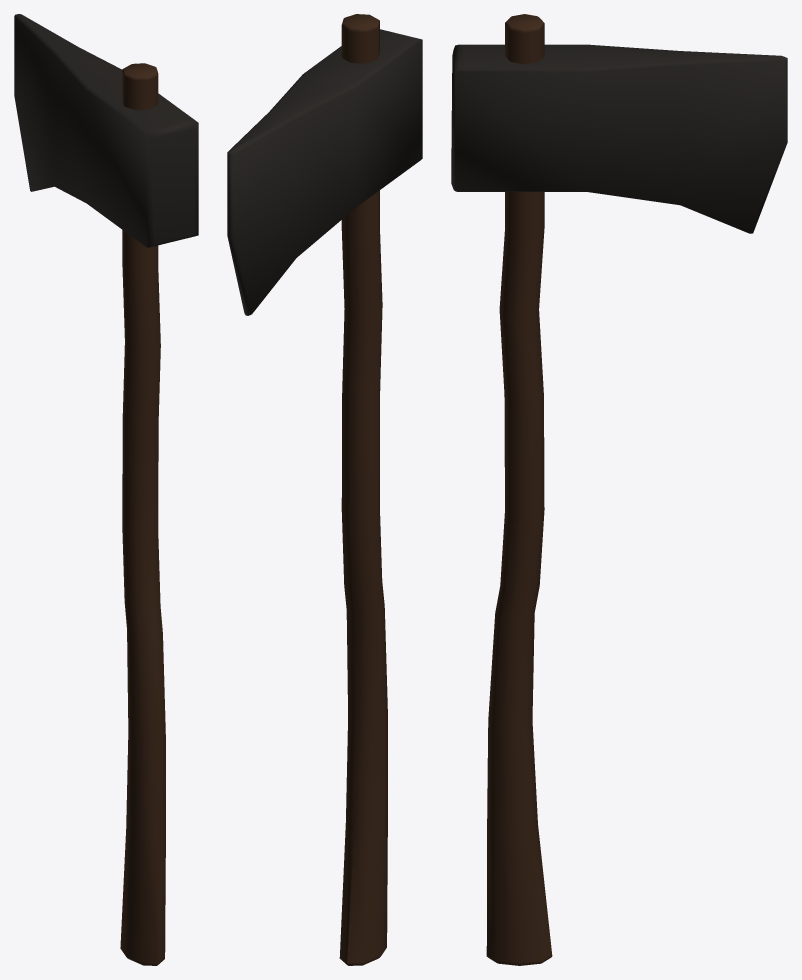
The model's file is axe.obj.
3 renders of one model, left to right at view 1: azimuth 30°, elevation 25°; view 2: azimuth 150°, elevation 25°; view 3: azimuth 270°, elevation 25°, orthographic. The views are drawn at different scales.
Parts seen in each view (by area): view 1: Shaft_Cylinder, AxeHead_Cube.001; view 2: Shaft_Cylinder, AxeHead_Cube.001; view 3: AxeHead_Cube.001, Shaft_Cylinder.
Boxes of the visible parts, x1,y1,x2,y2 form: Shaft_Cylinder: [120, 63, 165, 965]; AxeHead_Cube.001: [14, 14, 198, 247]; Shaft_Cylinder: [339, 14, 387, 965]; AxeHead_Cube.001: [227, 29, 422, 315]; AxeHead_Cube.001: [451, 44, 787, 233]; Shaft_Cylinder: [486, 14, 552, 965].
Size of the model in its own units: 0.0477 by 0.7858 by 0.2555.
